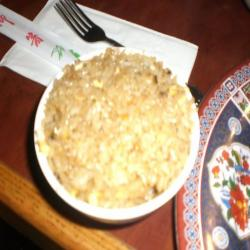apple_pie: (25, 46, 205, 221)
